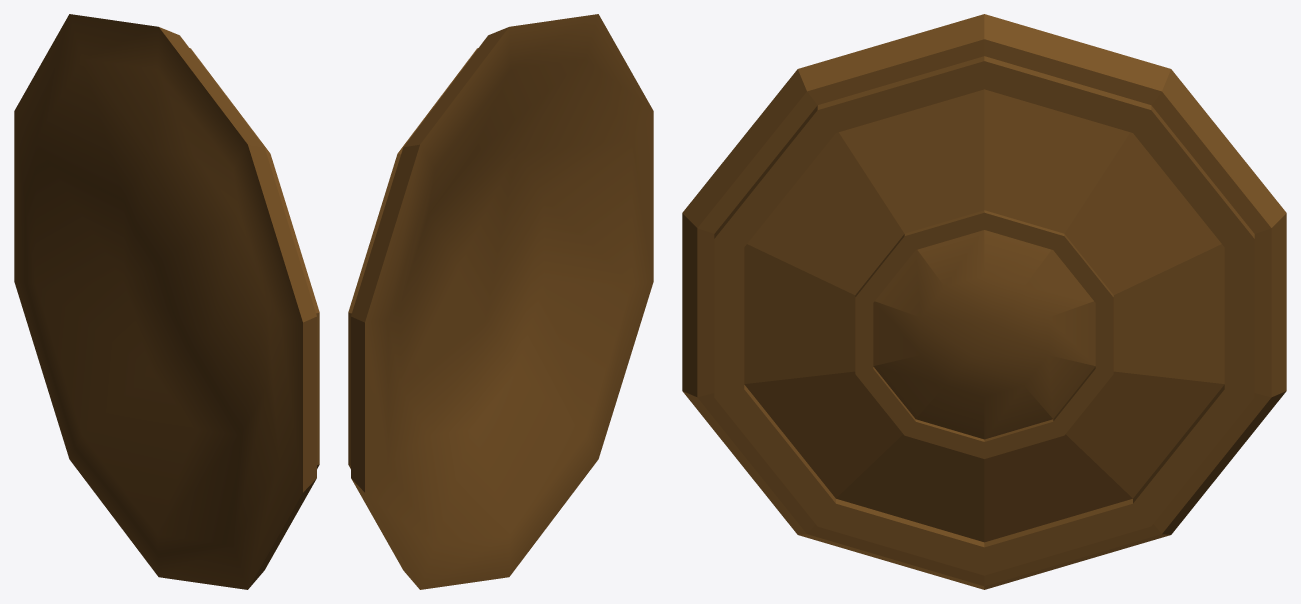
The model's file is escudo 3.0.fbx.
3 views of the same model, side by side, from view 1: azimuth 30°, elevation 25°; view 2: azimuth 150°, elevation 25°; view 3: azimuth 270°, elevation 25° (orthographic). The views are drawn at different scales.
Visible parts, largest first — view 1: Escudo_Geo; view 2: Escudo_Geo; view 3: Escudo_Geo.
Boxes of the visible parts, <box> form: Escudo_Geo: <box>14,14,319,589</box>; Escudo_Geo: <box>348,14,653,589</box>; Escudo_Geo: <box>682,14,1286,589</box>.
Size of the model in its own units: 2.34 by 16.05 by 15.26.
